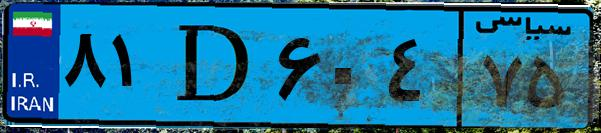0: (330, 28, 385, 110)
1: (110, 28, 158, 98)
4: (385, 28, 445, 110)
5: (525, 38, 570, 115)
6: (270, 28, 330, 110)
7: (475, 38, 525, 113)
8: (57, 26, 110, 100)
D: (158, 12, 270, 120)
